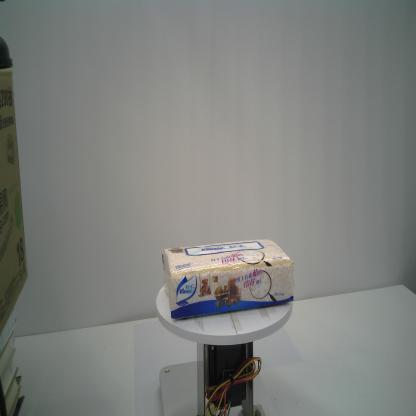Tissue: (161, 238, 295, 320)
